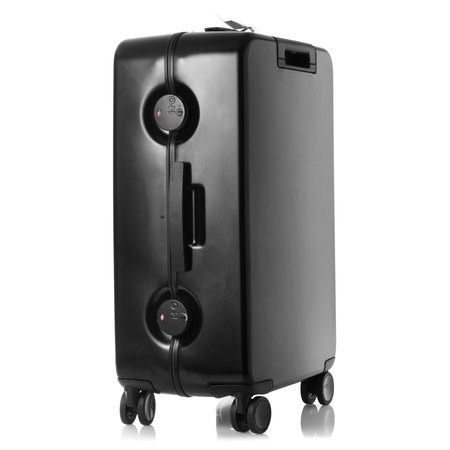suitcase: (111, 18, 338, 427)
